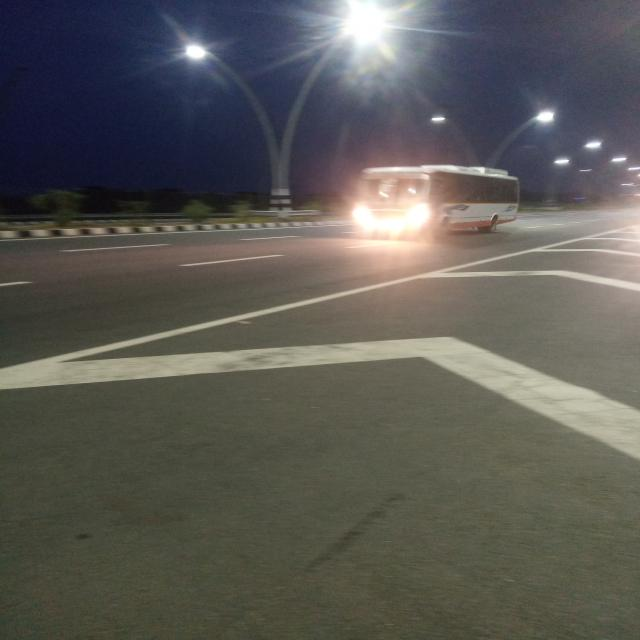Bus: (354, 165, 519, 232)
